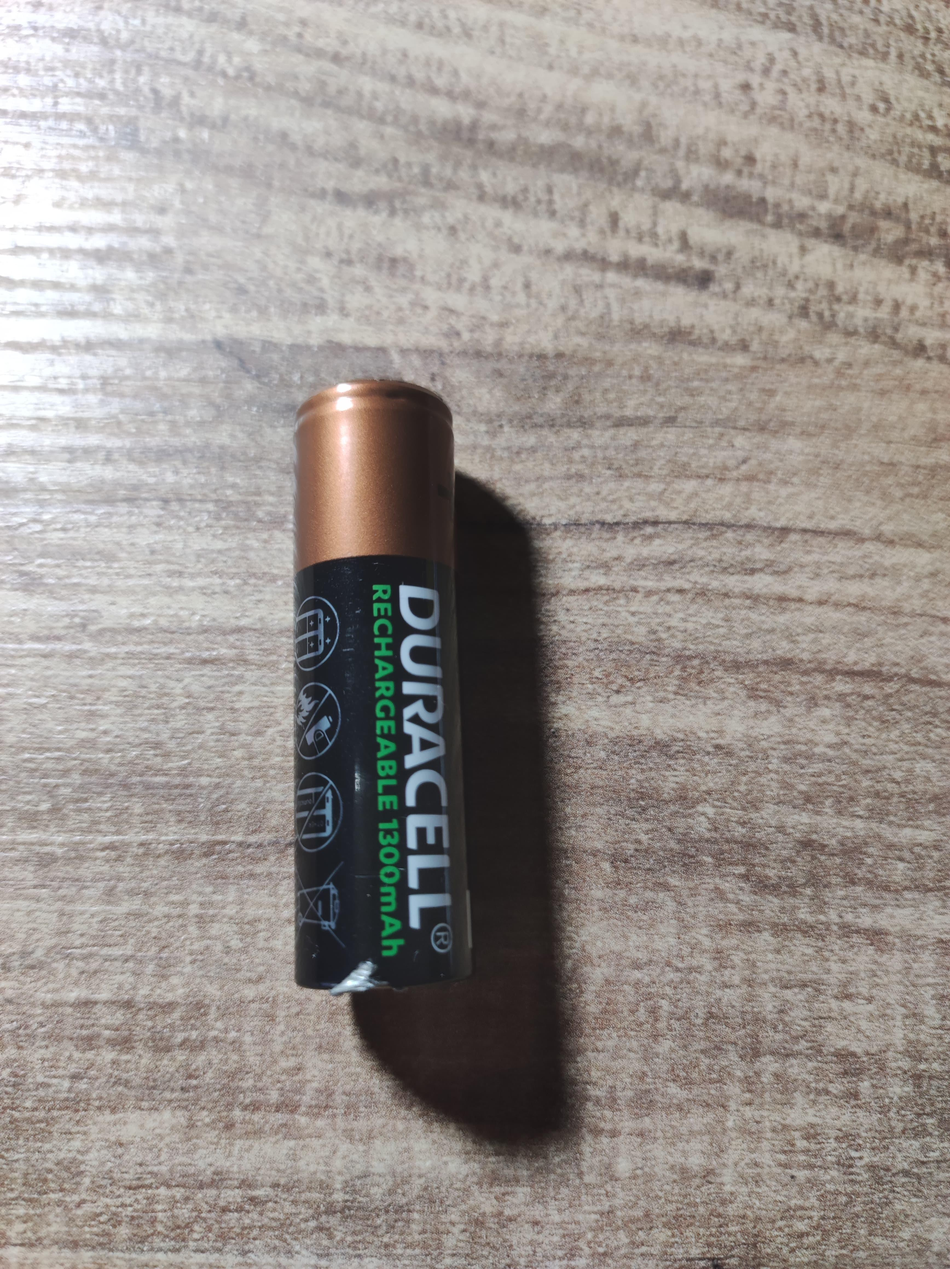AA: (291, 377, 474, 994)
